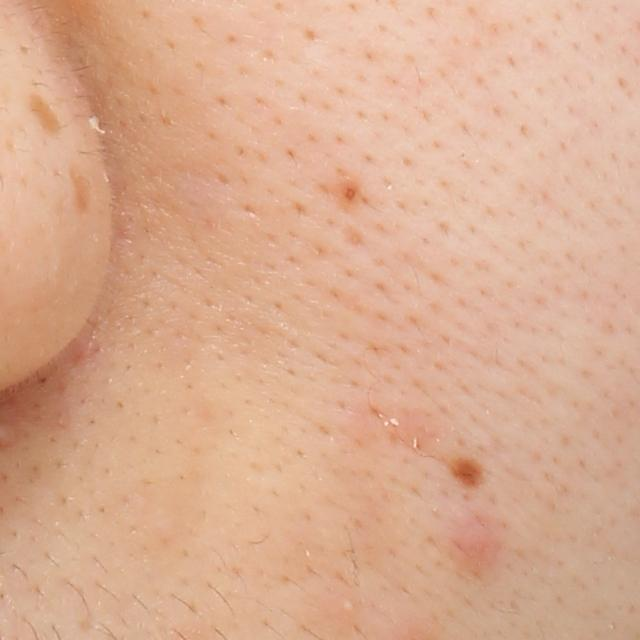comedo: (339, 598, 357, 613)
melasma: (13, 84, 71, 148), (437, 452, 491, 492), (66, 162, 100, 214)
